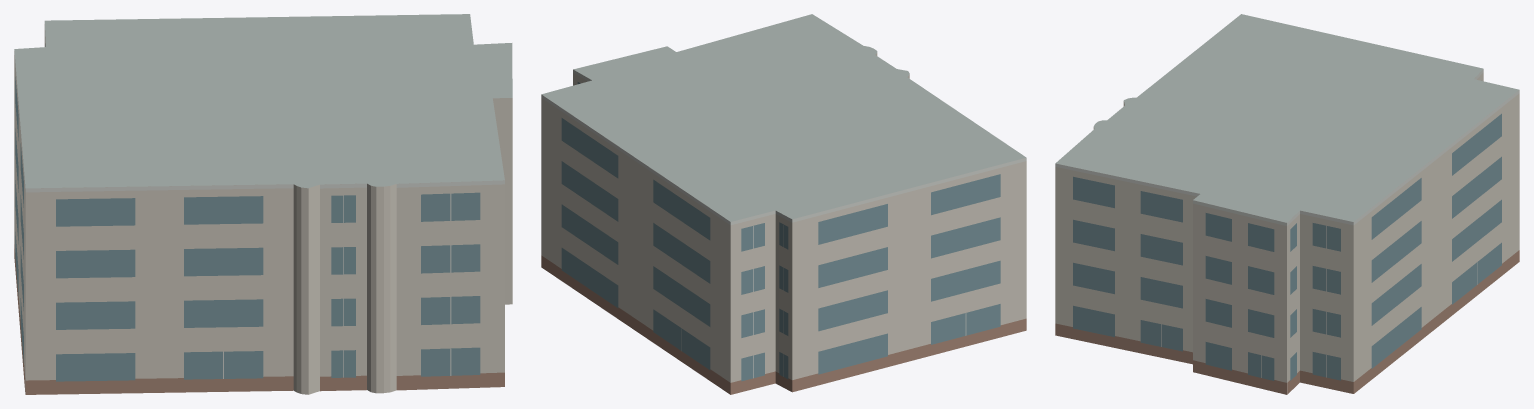
The model's file is survey-upis-32773685.glb.
3 renders of one model, left to right at view 1: azimuth 30°, elevation 25°; view 2: azimuth 150°, elevation 25°; view 3: azimuth 270°, elevation 25°, orthographic. The views are drawn at different scales.
Visible parts, largest first — view 1: survey-upis-32773685.tmp; view 2: survey-upis-32773685.tmp; view 3: survey-upis-32773685.tmp.
Part boxes in pixels (<box>): survey-upis-32773685.tmp: <box>14,14,512,394</box>; survey-upis-32773685.tmp: <box>541,14,1026,394</box>; survey-upis-32773685.tmp: <box>1055,14,1519,394</box>.
Bounding box in the file's own units: 32.84 × 12.6 × 30.85.
